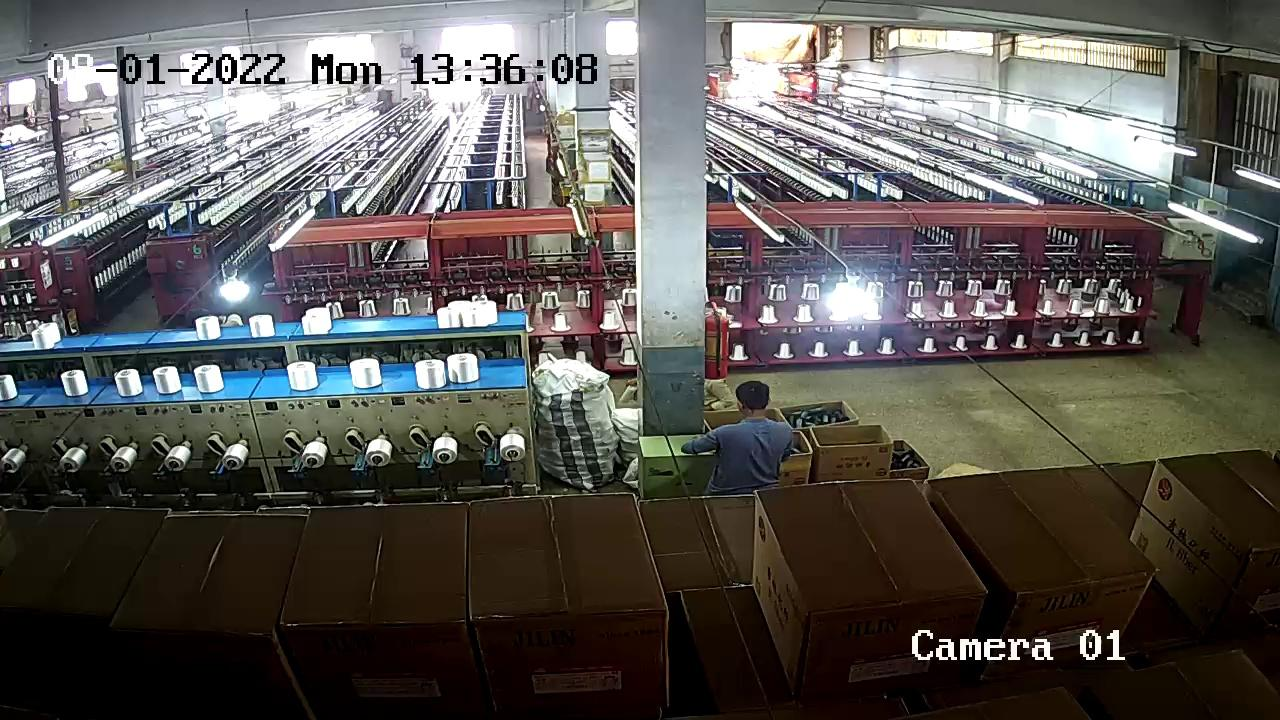person: (715, 377, 779, 473)
